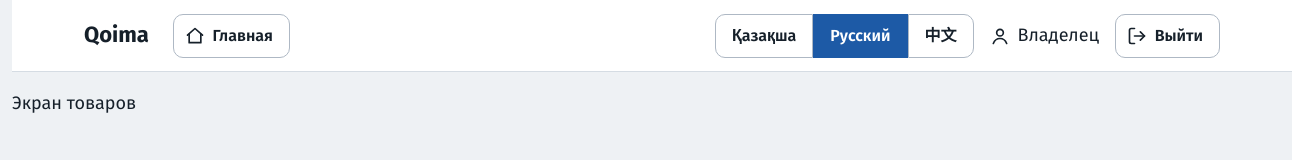
Scenario: header › has the «home» button on other pages
Check: the text "Экран товаров" is shown, box [12, 92, 136, 114]
Click the link "Главная": (231, 36) [173, 14, 290, 58]
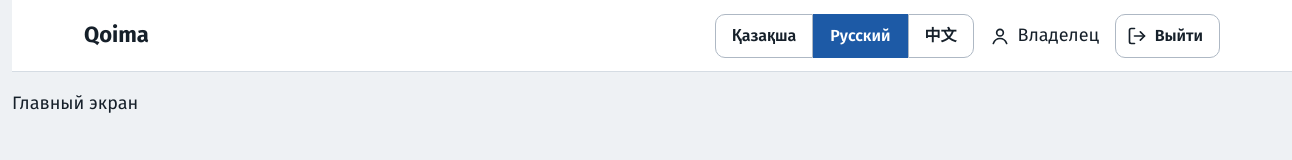
Check: the text "Главный экран" is shown, box [12, 92, 138, 114]
Check: the link "Главная" is gone
